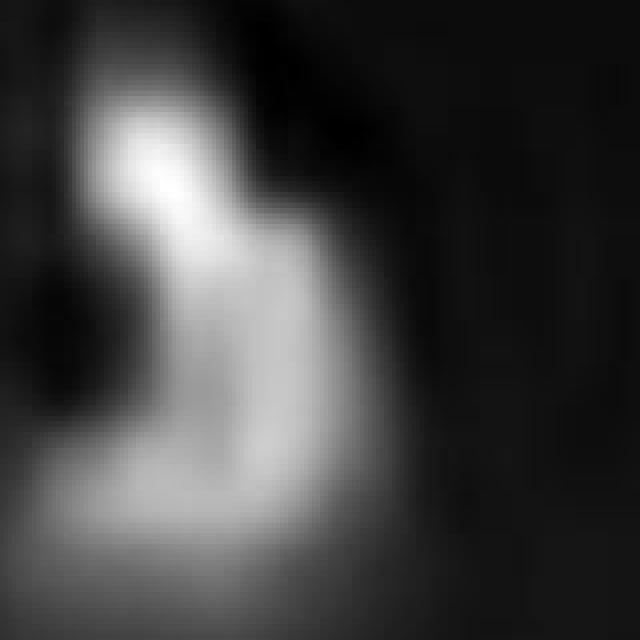person: (1, 11, 413, 640)
